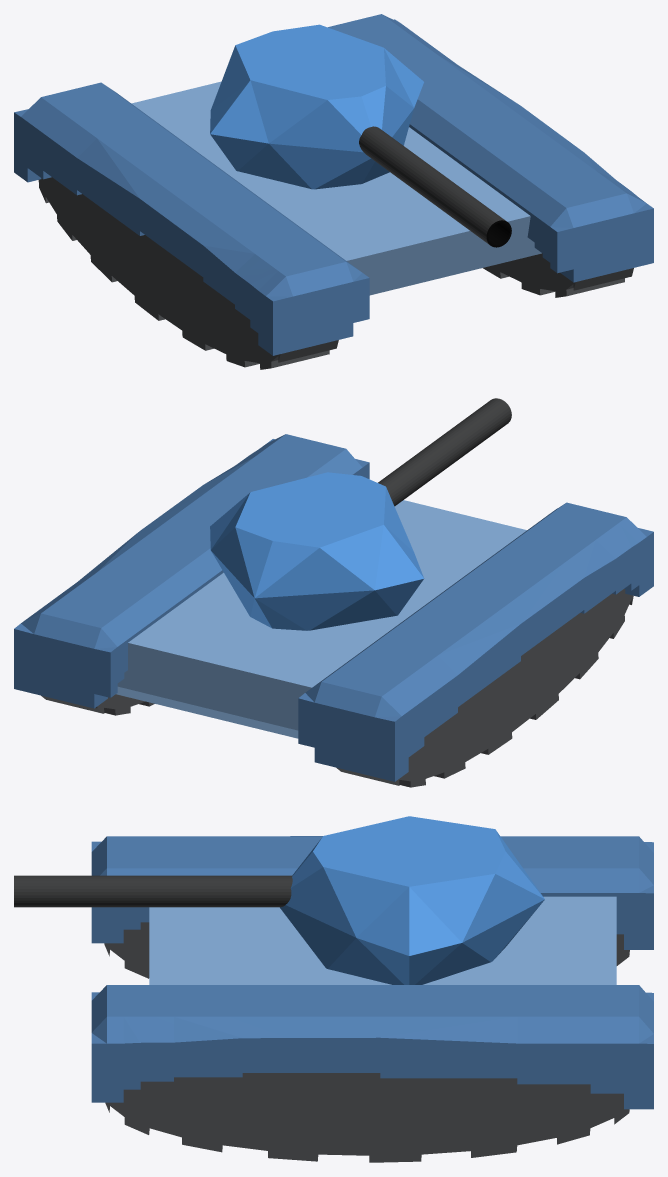
The model's file is enemy.obj.
The picture shows the model from 3 angles, top to bottom: view 1: azimuth 30°, elevation 25°; view 2: azimuth 150°, elevation 25°; view 3: azimuth 270°, elevation 25°; orthographic projection. The views are drawn at different scales.
Visible parts, largest first — view 1: tank.004, tank.003, tank.001, tank.006, tank, tank.002, tank.005; view 2: tank.004, tank.006, tank.003, tank.001, tank, tank.002, tank.005; view 3: tank.003, tank.005, tank.001, tank.006, tank.004, tank.002, tank.
Part boxes in pixels (x1,y1,x2,y2): tank.004: (14,82,369,355); tank.003: (328,14,653,282); tank.001: (210,24,423,189); tank.006: (131,81,541,295); tank: (38,177,338,369); tank.002: (359,126,511,247); tank.005: (483,253,633,297); tank.004: (298,502,653,781); tank.006: (116,500,526,738); tank.003: (14,434,369,708); tank.001: (210,472,424,630); tank: (336,589,633,787); tank.002: (378,398,511,506); tank.005: (41,694,154,715); tank.003: (91,985,653,1109); tank.005: (105,1073,629,1162); tank.001: (280,816,544,984); tank.006: (149,896,616,984); tank.004: (91,836,653,949); tank.002: (14,875,292,907); tank: (104,922,629,978).
Bounding box in the file's own units: 9.03 × 4.54 × 12.11.
1 material, 1 textured.
